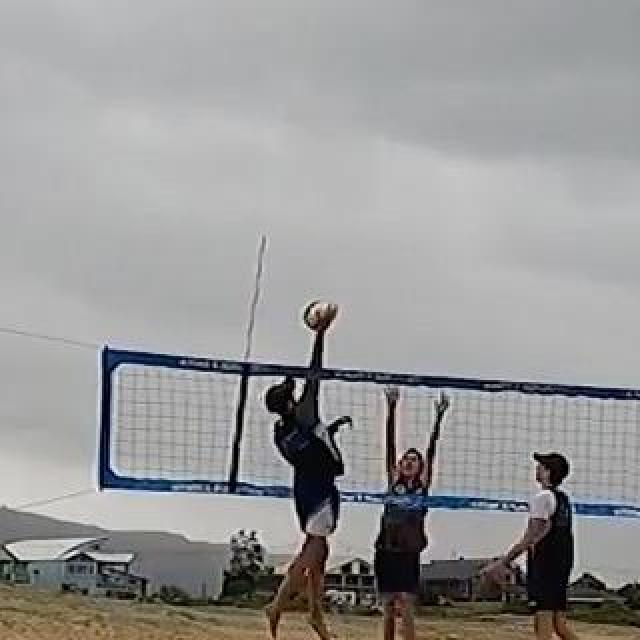volleyball: (304, 300, 332, 330)
